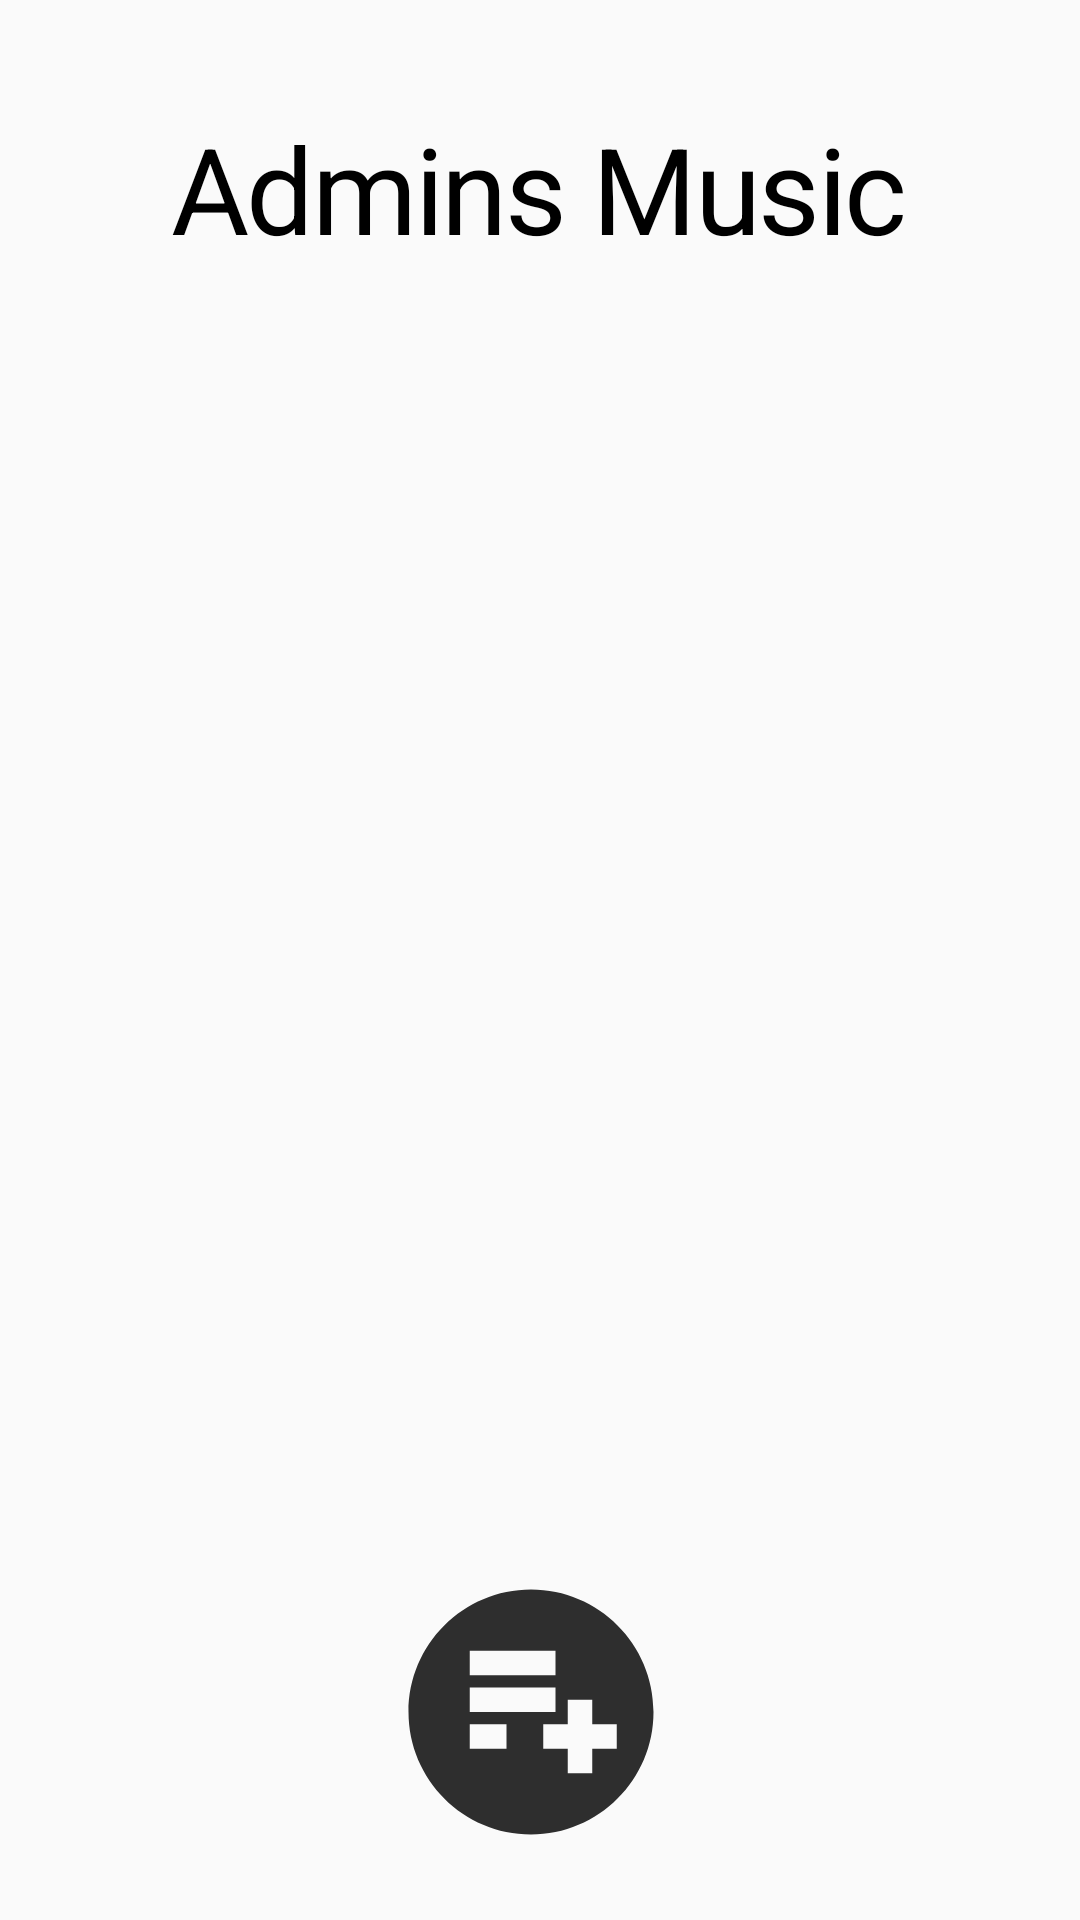

Locate icon controls on the screen. Image size 1080*1920, boxes as region(x1, y1, x2, y2).
add: region(408, 1589, 654, 1835)
